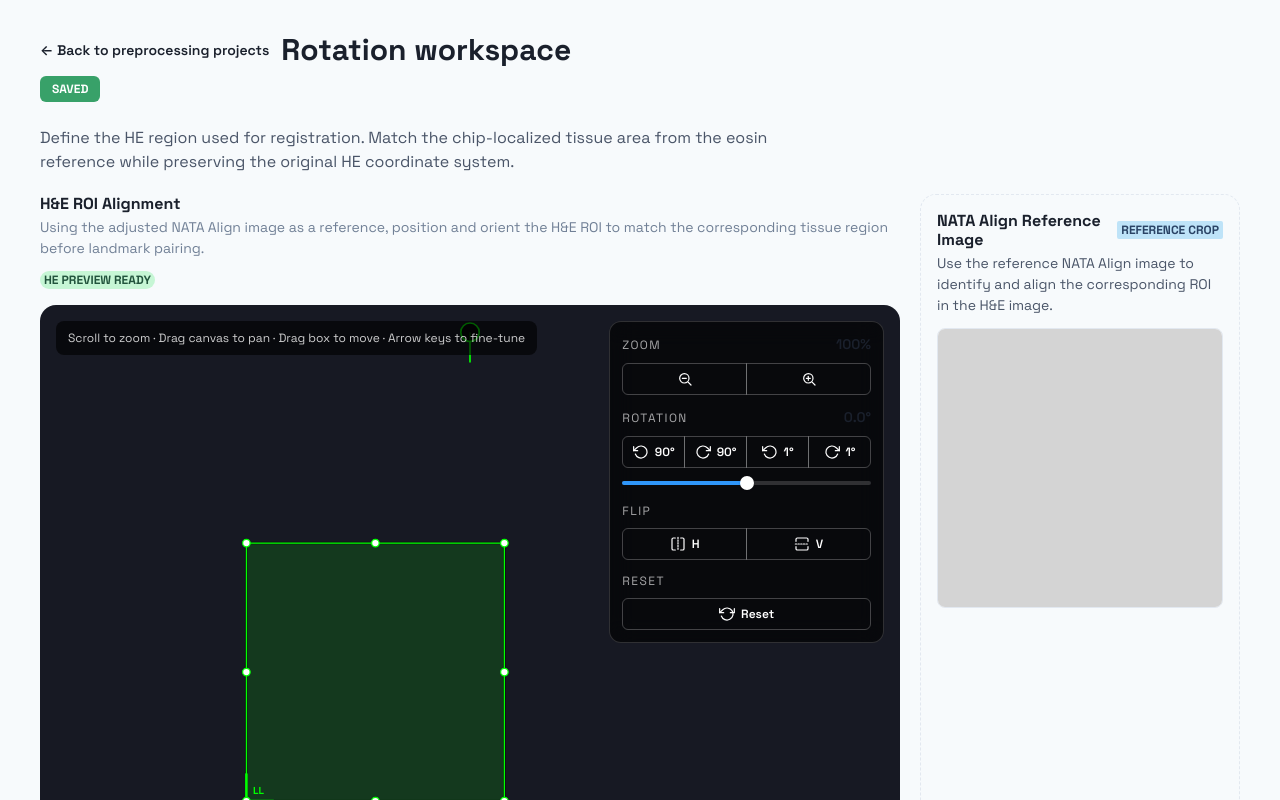
Test: PreprocessWorkspace rotation contract › keeps HEFocus overlay canvas-axis-aligned while image rotation changes
expect the text with test id "he-focus-stage-rotation-value" reads "0.0°": met, box [844,407,871,428]
Click the button with test id "he-focus-stage-rotate-right-90": (716, 452) [684,436,747,468]
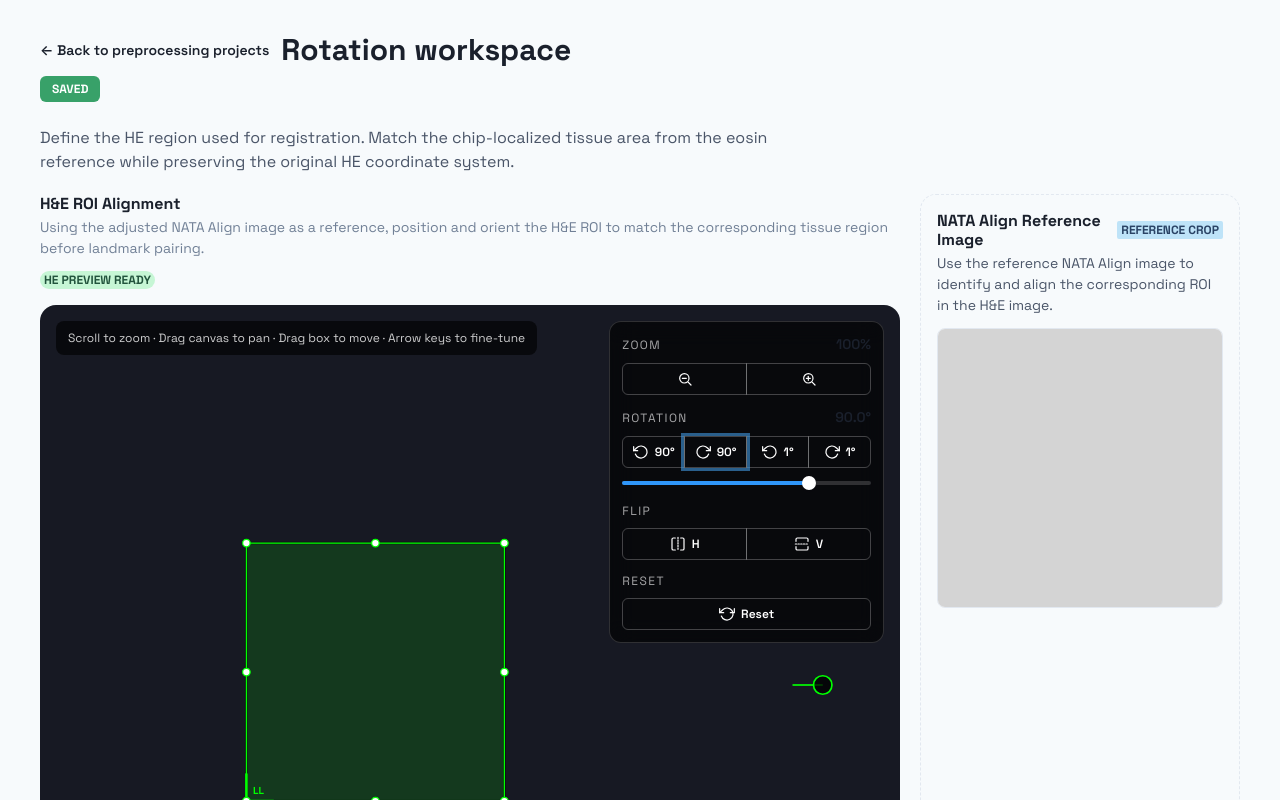
expect the text with test id "he-focus-stage-rotation-value" reads "90.0°": met, box [835,407,871,428]
